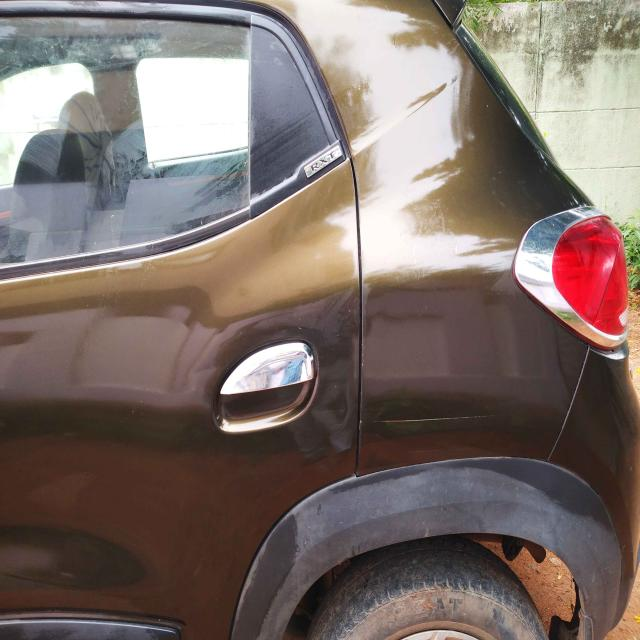scratch: (358, 408, 502, 436)
